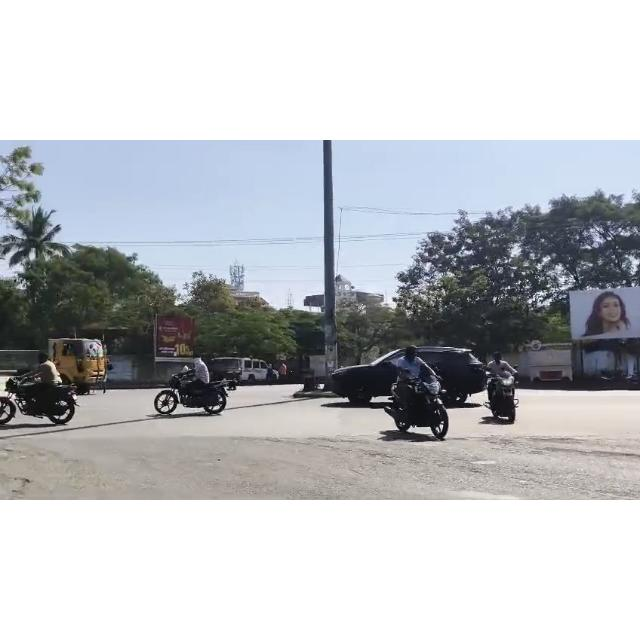auto: (213, 356, 250, 392)
car: (330, 334, 505, 403)
truck: (0, 327, 120, 399)
